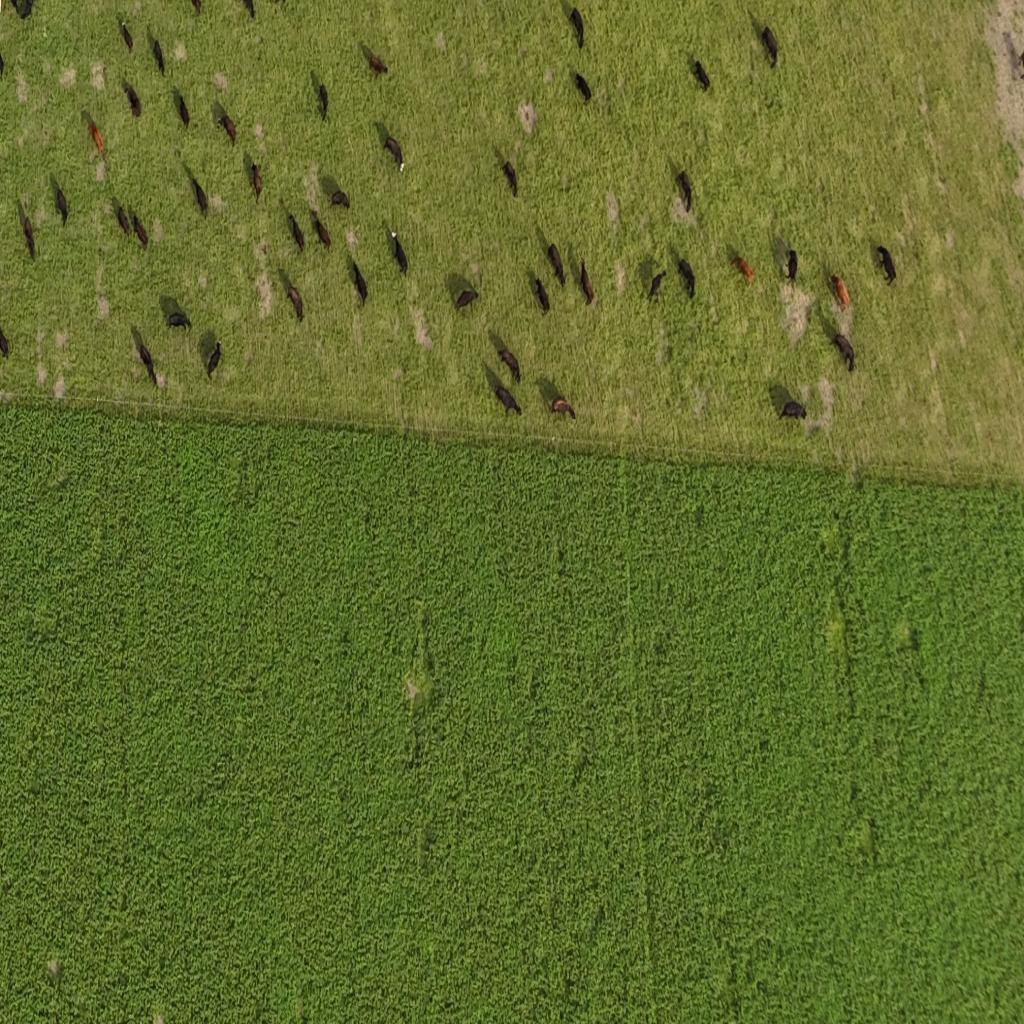cow: (831, 333, 856, 374), (388, 228, 408, 276), (138, 340, 158, 388), (494, 384, 521, 418), (498, 347, 522, 384), (548, 243, 566, 288), (876, 245, 896, 285), (828, 274, 850, 310), (190, 174, 208, 218), (312, 212, 332, 251), (352, 259, 368, 307), (678, 258, 696, 300), (731, 256, 755, 287), (580, 258, 595, 306), (677, 170, 693, 214), (384, 135, 404, 170), (568, 7, 584, 50), (286, 284, 304, 322), (762, 26, 778, 68), (218, 112, 237, 147), (132, 210, 149, 248), (54, 181, 68, 227), (534, 276, 550, 316), (206, 340, 222, 380), (288, 212, 304, 252), (549, 397, 576, 420), (124, 83, 141, 119), (23, 213, 36, 260), (693, 60, 711, 93), (502, 160, 518, 197), (783, 247, 798, 286), (648, 270, 666, 302), (454, 288, 478, 312), (88, 121, 104, 157), (574, 72, 591, 105), (249, 161, 263, 201), (780, 401, 806, 422), (116, 204, 132, 238), (167, 311, 191, 332), (176, 92, 190, 128), (152, 38, 165, 76), (368, 52, 388, 76), (119, 19, 133, 52), (13, 0, 34, 21), (330, 190, 350, 209), (318, 82, 328, 120), (0, 322, 10, 358), (1019, 49, 1024, 77)
